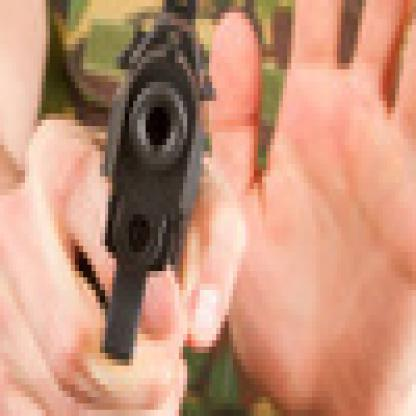gun: (71, 0, 245, 397)
